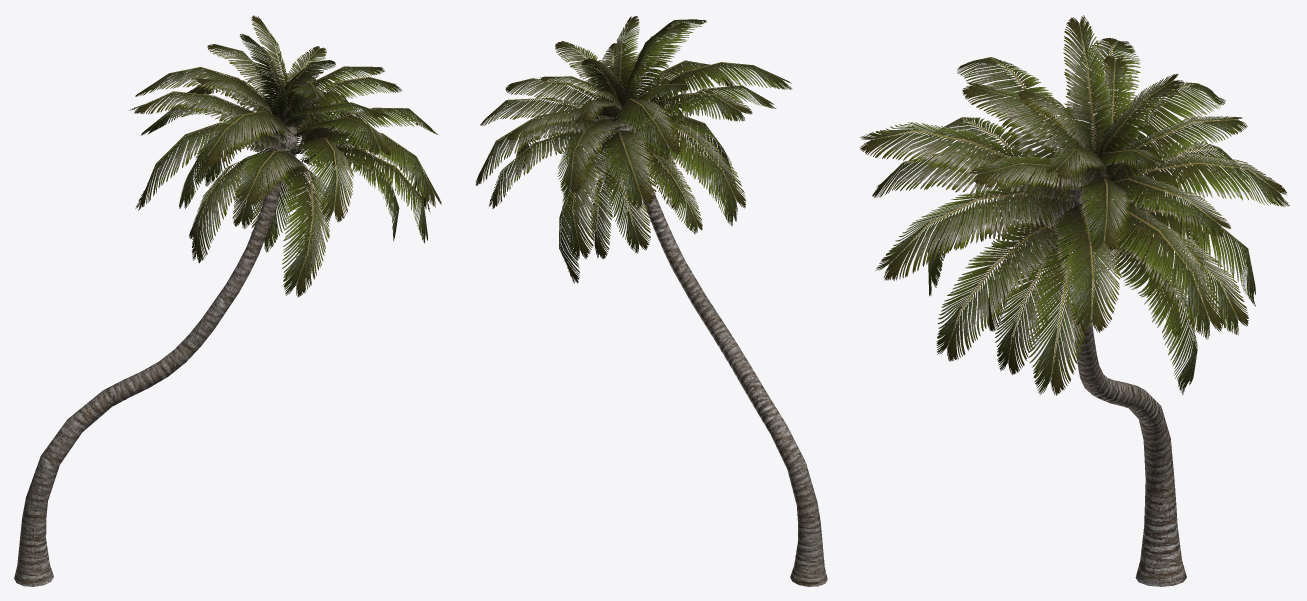
File: Palmu3.fbx
3 views of the same model, side by side, from view 1: azimuth 30°, elevation 25°; view 2: azimuth 150°, elevation 25°; view 3: azimuth 270°, elevation 25° (orthographic). The views are drawn at different scales.
Parts seen in each view (by area): view 1: Palmu3; view 2: Palmu3; view 3: Palmu3.
Part boxes in pixels (x1,y1,x2,y2): Palmu3: (14,15,441,586); Palmu3: (475,16,827,586); Palmu3: (860,15,1289,586).
Bounding box in the file's own units: 683 × 874 × 512.
